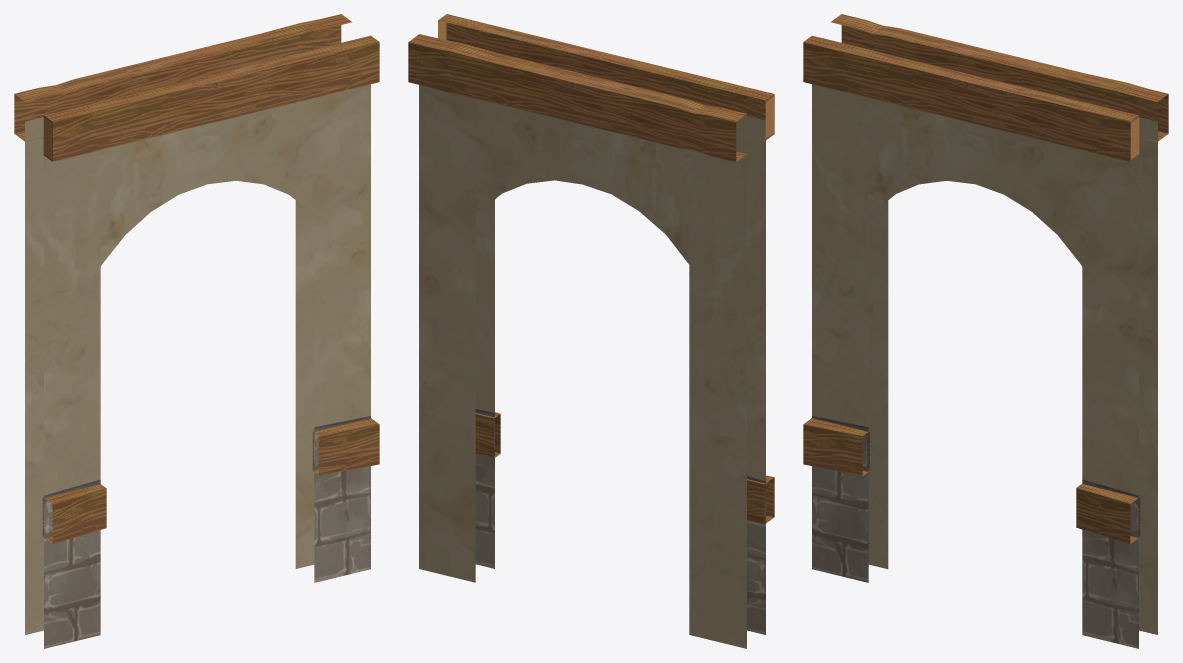
Rendered from house_door.glb.
3 renders of one model, left to right at view 1: azimuth 30°, elevation 25°; view 2: azimuth 150°, elevation 25°; view 3: azimuth 330°, elevation 25°, orthographic.
Visible parts, largest first — view 1: Wall_Plaster_Door_Round; view 2: Wall_Plaster_Door_Round; view 3: Wall_Plaster_Door_Round.
Part boxes in pixels (left/top/right/bottom): Wall_Plaster_Door_Round: left=14, top=14, right=379, bottom=648; Wall_Plaster_Door_Round: left=408, top=14, right=774, bottom=648; Wall_Plaster_Door_Round: left=803, top=14, right=1168, bottom=648.
Bounding box in the file's own units: 2 × 3.12 × 0.4065.
Materials: 3 (3 with a texture image).
